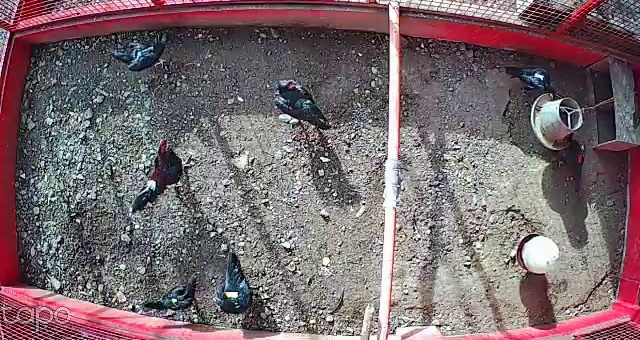Chicken: (271, 73, 343, 139), (103, 28, 185, 72), (212, 249, 256, 314), (140, 269, 202, 313), (503, 64, 558, 102), (555, 134, 586, 192)
Rooster: (124, 135, 201, 210)
Saddle_Color_Red: (578, 154, 583, 162)
Saddle_Color_White: (534, 73, 545, 81)
Saddle_Color_Yellow: (170, 297, 178, 306)
Saddle_Color_YellowGreen: (226, 291, 240, 303)
